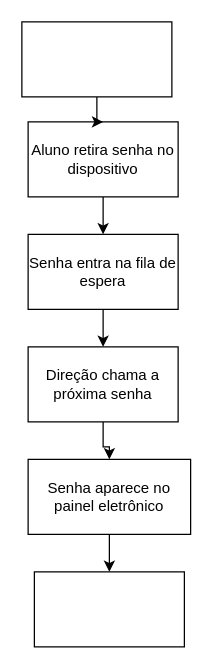
This 213x669 diagram has some shape labels left out. The shapes that lost their labels are listed below. From the top down, each one's centre as x and y in pixels, then its label:
At (96,59): "Aluno chega na ditreção".
At (108,609): "Aluno se dirige á direção".
